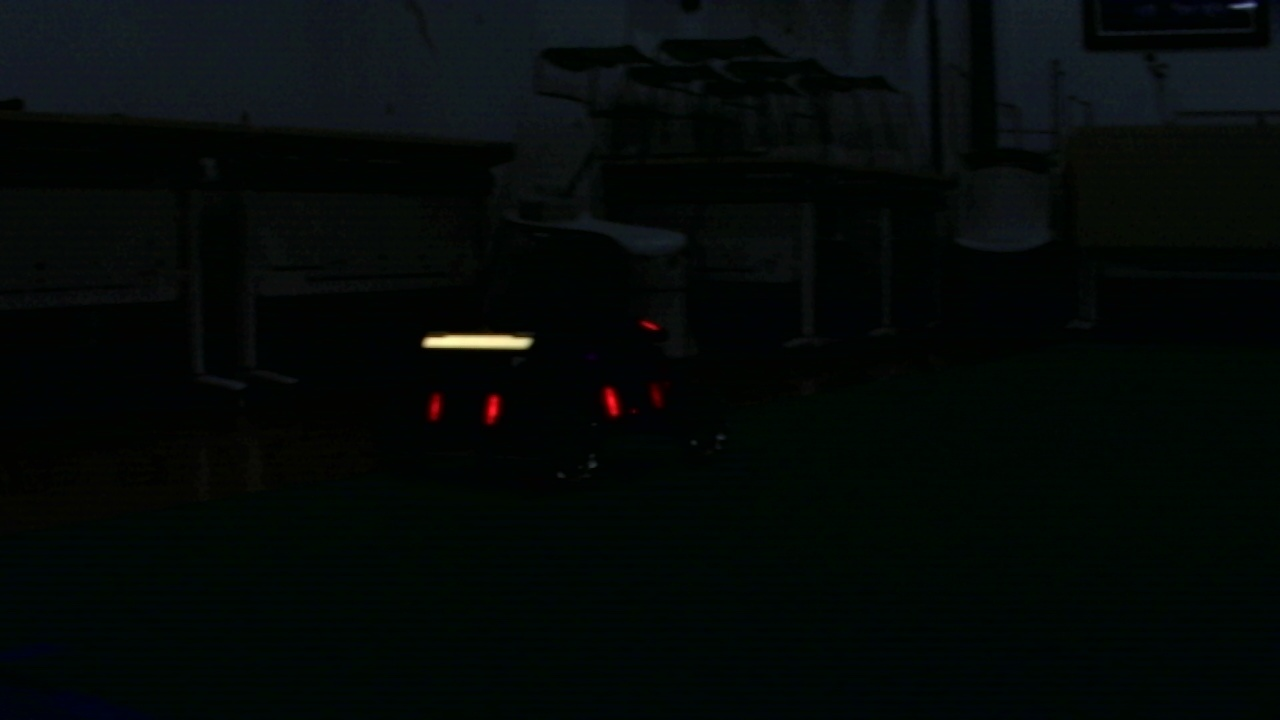lamp: (605, 386, 621, 418), (486, 391, 497, 422)
pair1: (432, 391, 500, 419), (430, 391, 442, 418)
